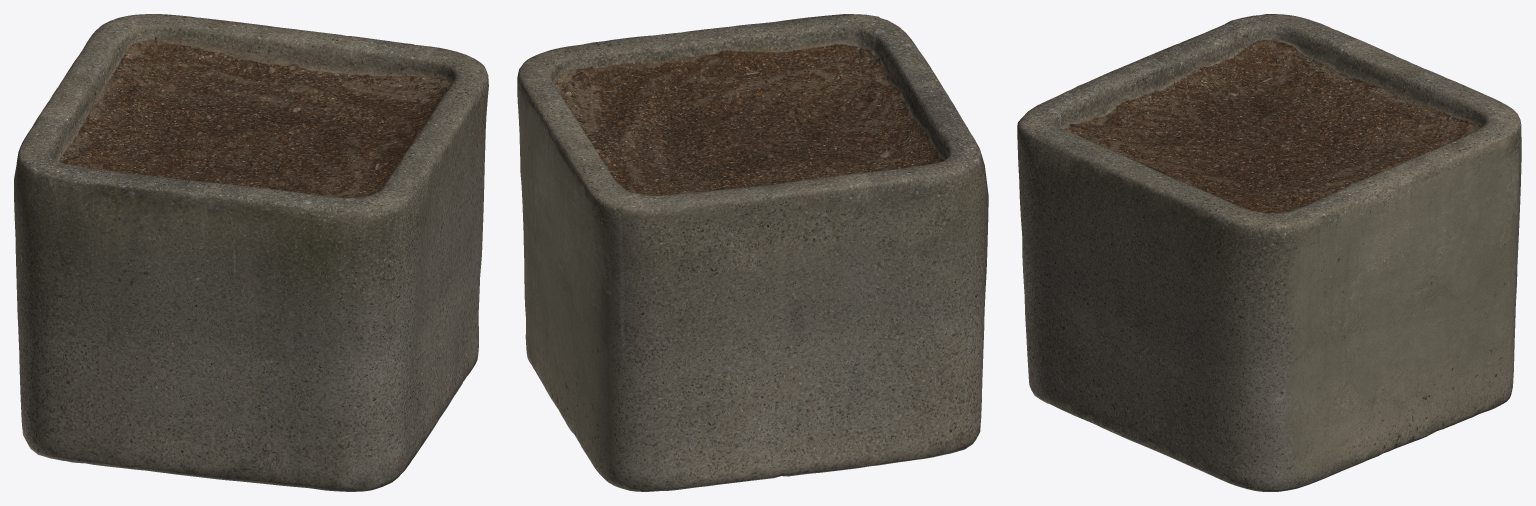
The picture shows the model from 3 angles, left to right: view 1: azimuth 30°, elevation 25°; view 2: azimuth 150°, elevation 25°; view 3: azimuth 270°, elevation 25°; orthographic projection. The views are drawn at different scales.
Parts seen in each view (by area): view 1: Aset_street__M_ui1ldhkba_LOD0_2; view 2: Aset_street__M_ui1ldhkba_LOD0_2; view 3: Aset_street__M_ui1ldhkba_LOD0_2.
Part boxes in pixels (x1,y1,x2,y2): Aset_street__M_ui1ldhkba_LOD0_2: (14, 14, 488, 491); Aset_street__M_ui1ldhkba_LOD0_2: (517, 14, 988, 491); Aset_street__M_ui1ldhkba_LOD0_2: (1017, 14, 1521, 491).
Bounding box in the file's own units: 1.17 × 0.7336 × 1.17.
